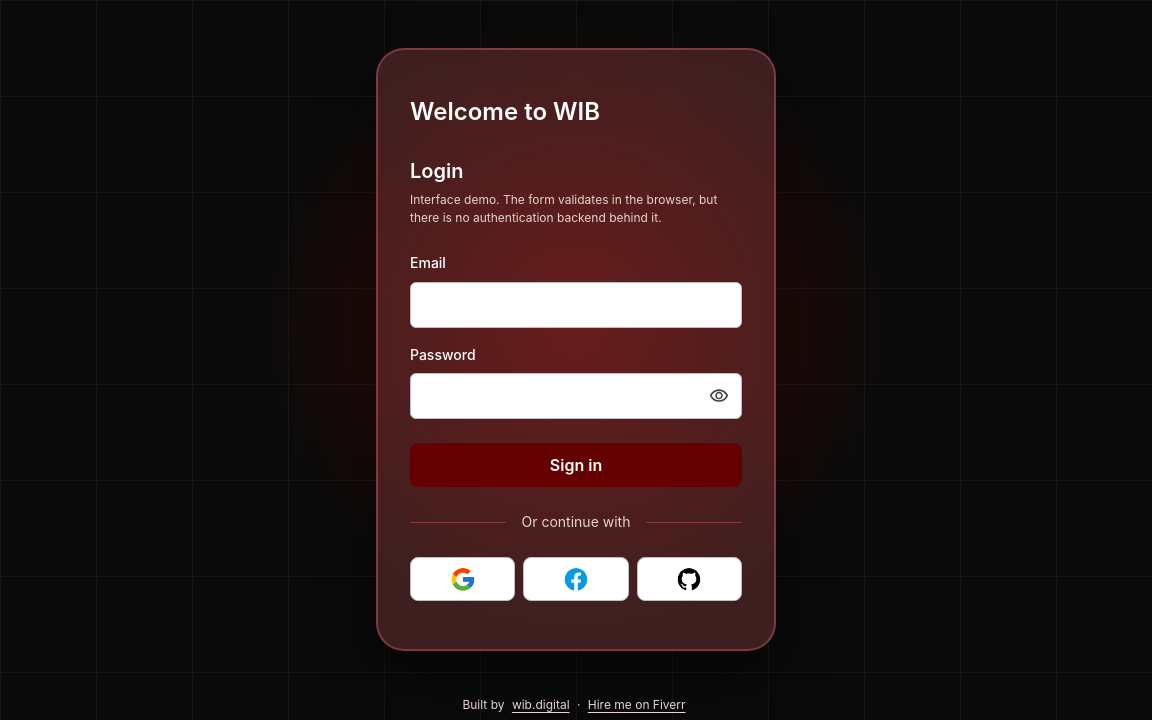
login screen › rejects an address that is not a valid email
In the field labelled "Email": point(576, 305) [427,283,725,327], type "pablo@wib"
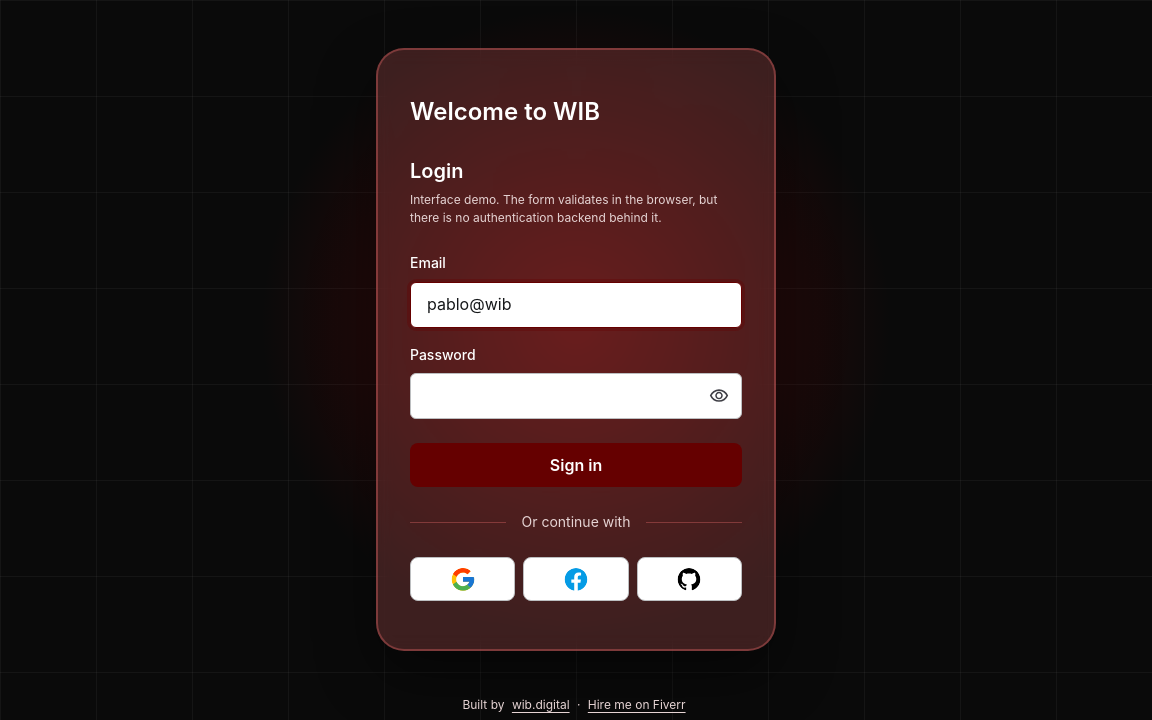
In the password field labelled "Password": point(562, 396) [427,374,697,418], type "correct-horse"
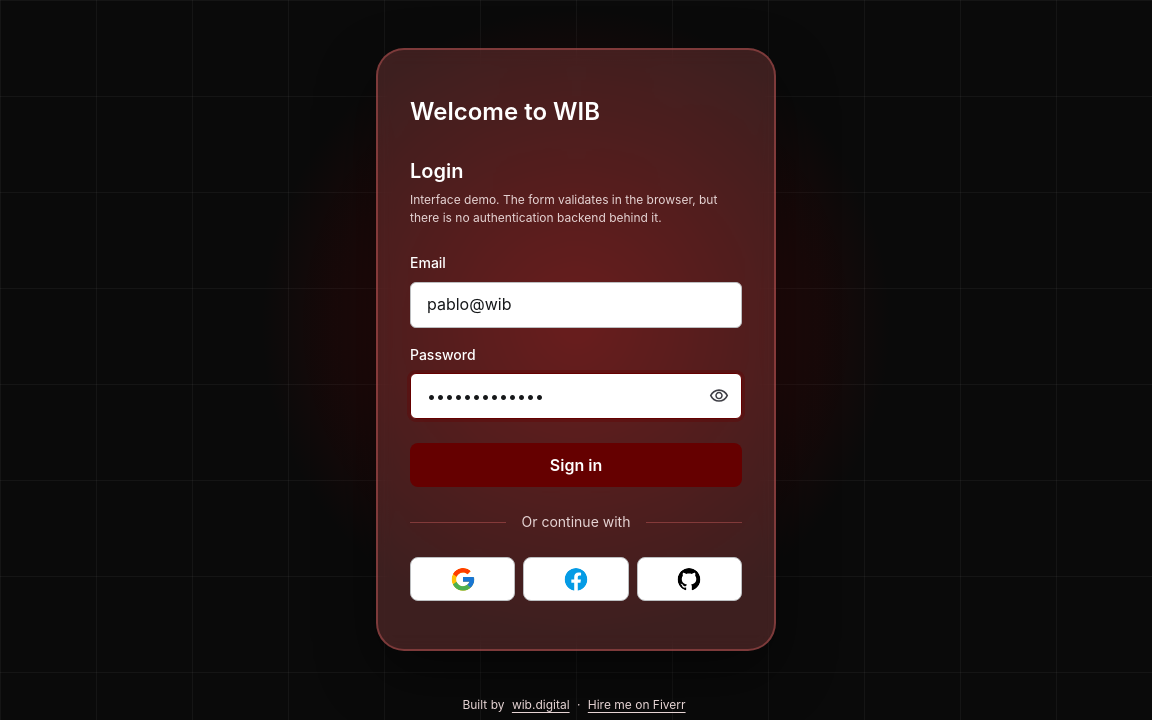
Click the button "Sign in": point(576, 465) [410,443,742,487]
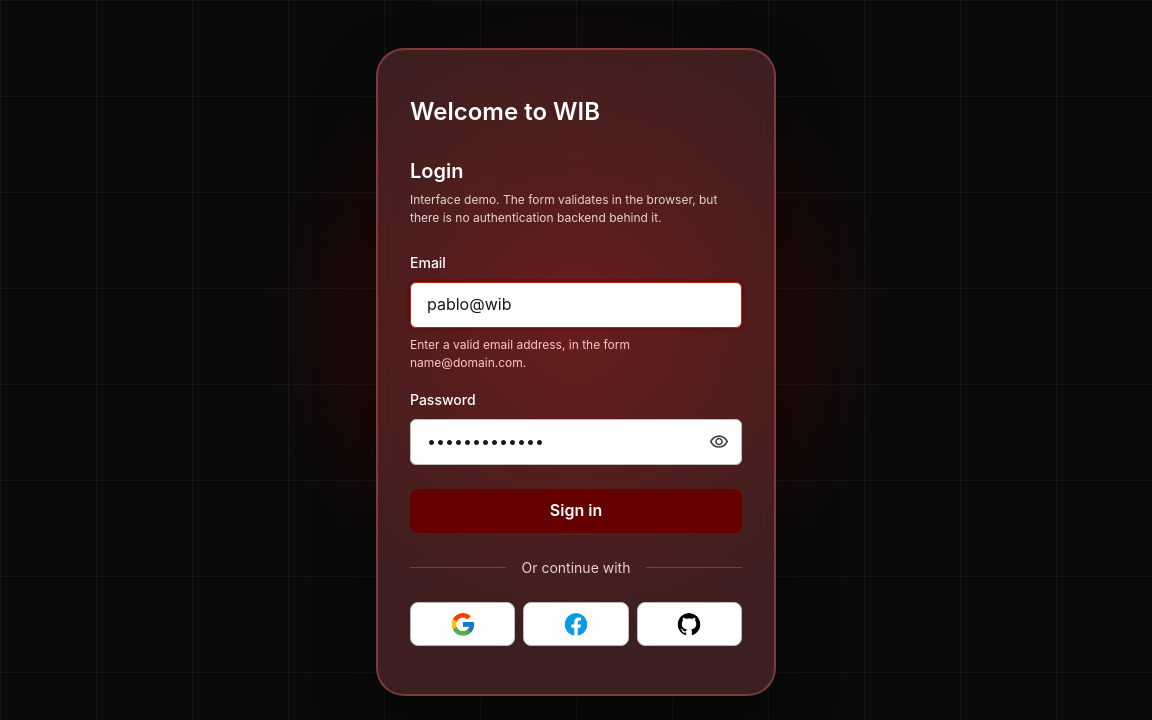
Now the text "Enter a valid email address, in the form name@domain.com." is shown, box [410,337,630,370]
